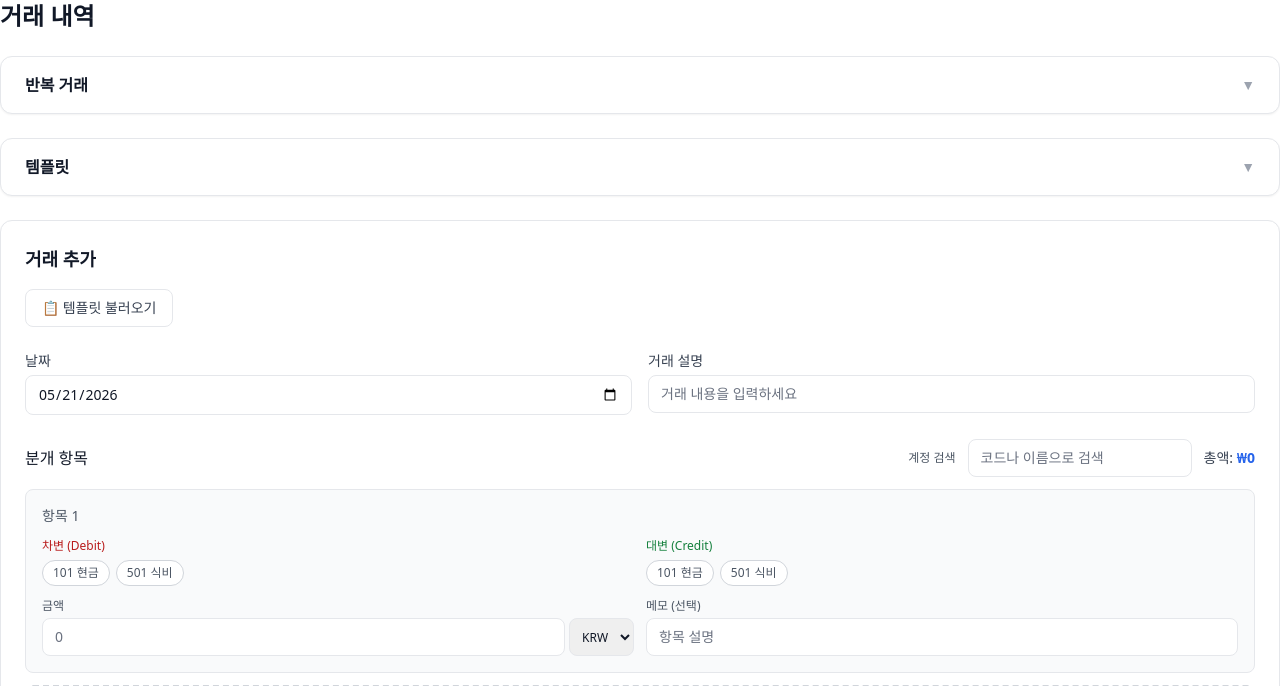
Scenario: TemplatesTab (템플릿 탭) › 템플릿 탭으로 전환하면 폼과 목록을 렌더링한다
What coordinates should you click on to do the following:
click the button "템플릿 ▼"
I would click on:
 (47, 167)
Its box is [1,139,1279,195].
(page scrolled)
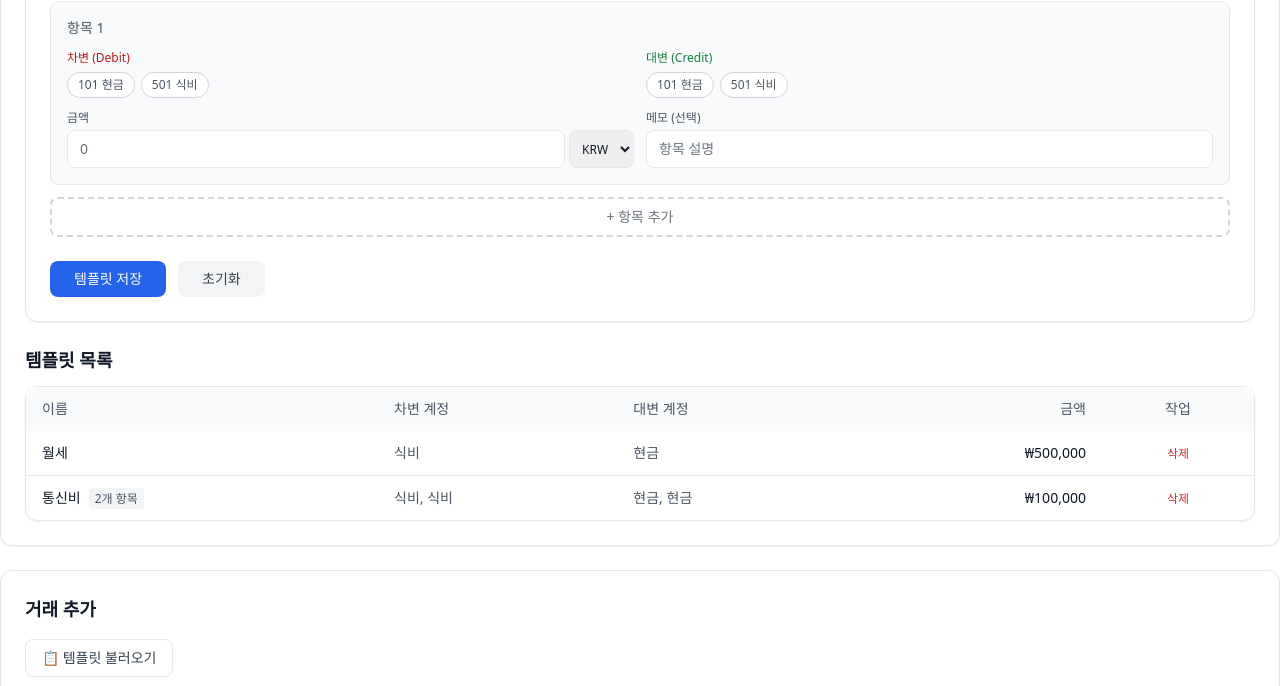
Result: the heading "템플릿 목록" is shown at [25,348,112,372]
